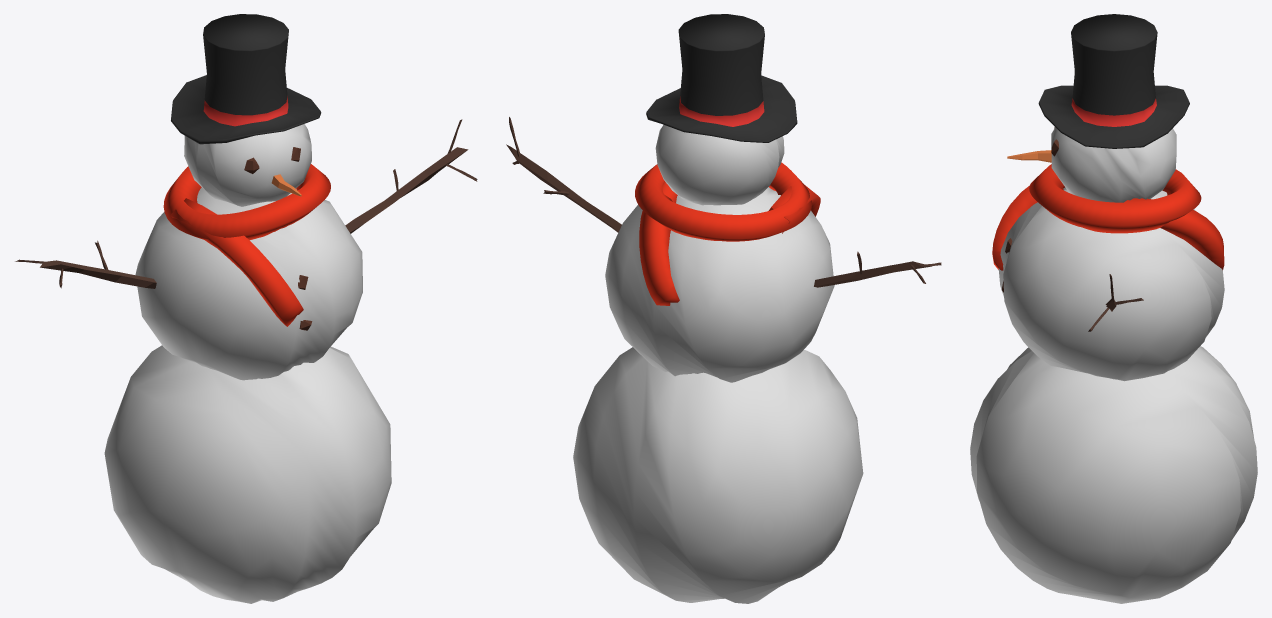
Rendered from Snowballgameprototype.fbx.
The picture shows the model from 3 angles, left to right: view 1: azimuth 30°, elevation 25°; view 2: azimuth 150°, elevation 25°; view 3: azimuth 270°, elevation 25°; orthographic projection.
Parts seen in each view (by area): view 1: originalSnowball; view 2: originalSnowball; view 3: originalSnowball.
Boxes of the visible parts, x1,y1,x2,y2 form: originalSnowball: [15, 14, 477, 603]; originalSnowball: [506, 14, 941, 603]; originalSnowball: [970, 14, 1257, 603].
Bounding box in the file's own units: 422 × 515 × 241.
